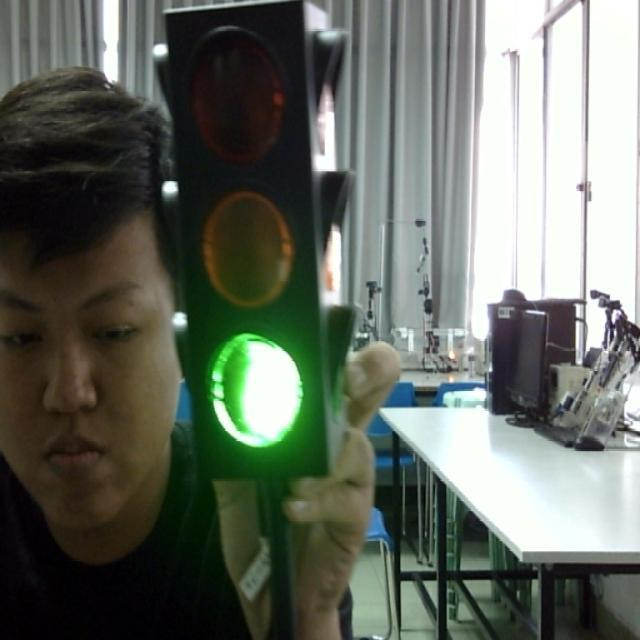green_light: (159, 3, 362, 489)
